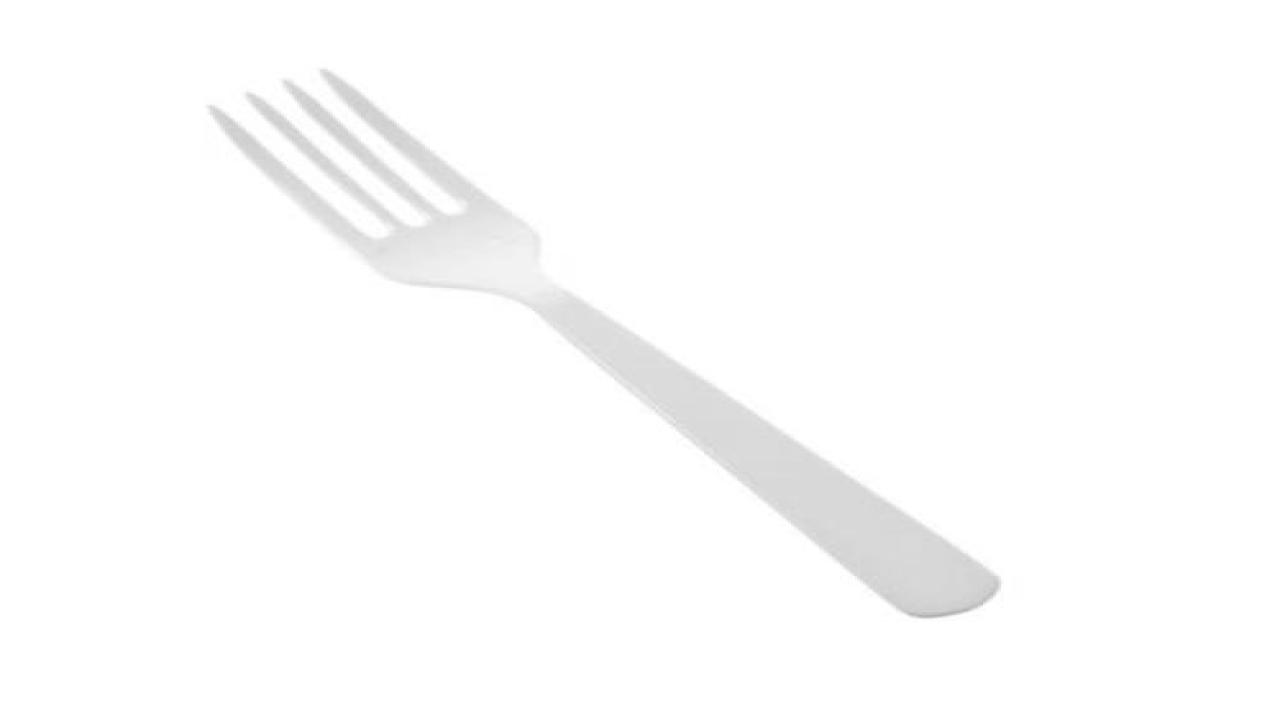fork: (202, 65, 1001, 618)
